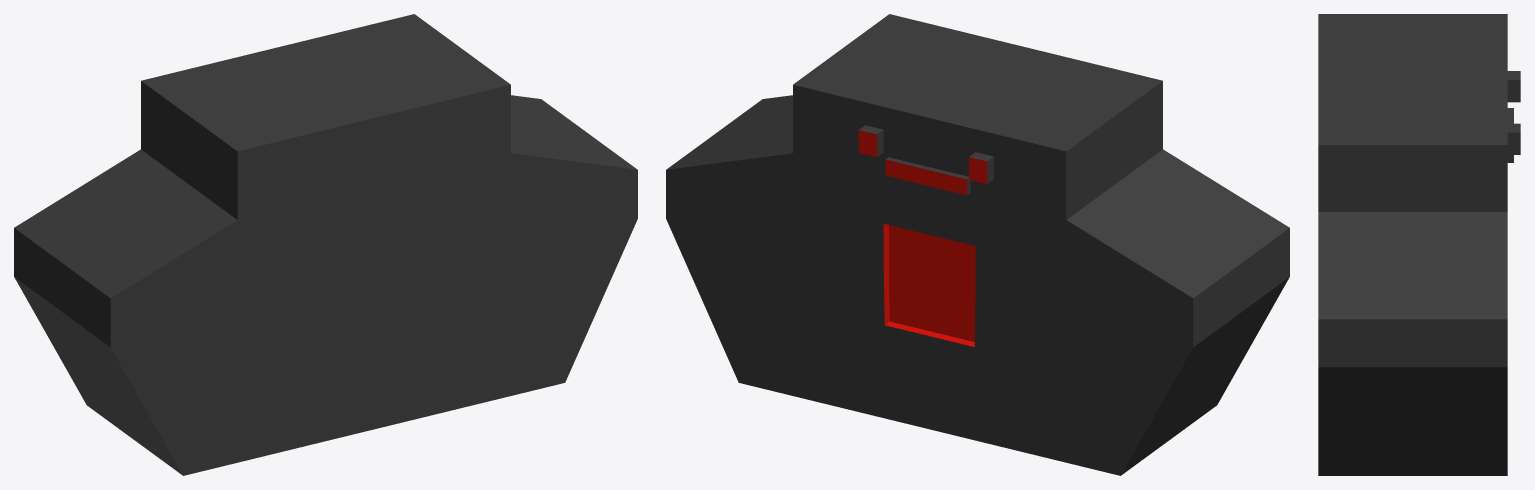
The model's file is Top.fbx.
3 renders of one model, left to right at view 1: azimuth 30°, elevation 25°; view 2: azimuth 150°, elevation 25°; view 3: azimuth 270°, elevation 25°, orthographic. The views are drawn at different scales.
Parts seen in each view (by area): view 1: Top; view 2: Top; view 3: Top.
Boxes of the visible parts, x1,y1,x2,y2 form: Top: [14, 14, 637, 475]; Top: [666, 14, 1289, 475]; Top: [1318, 14, 1520, 475].
Size of the model in its own units: 144 by 81.07 by 48.72.
